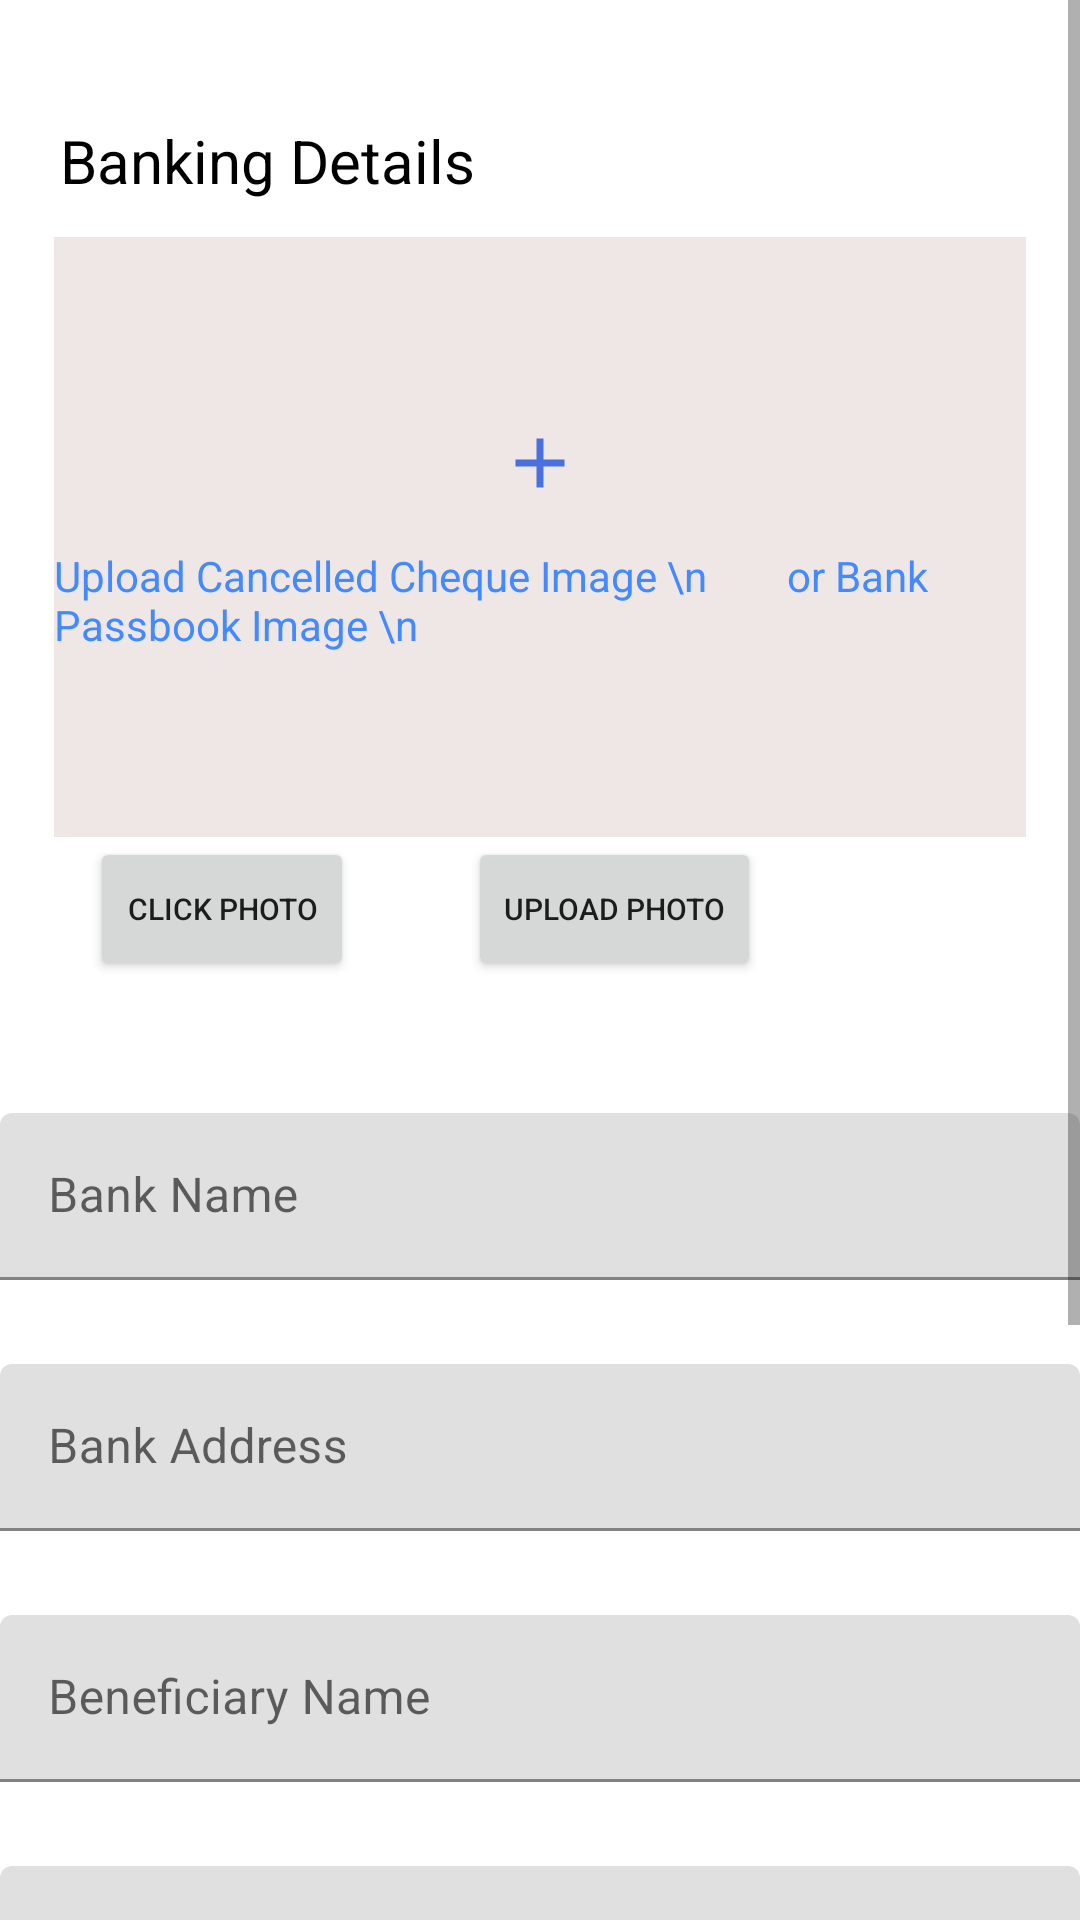

Icon bounding boxes for this 1080px×1920px phone screenshot, format (x1, y1, x2, y2):
add: (515, 438, 565, 488)
